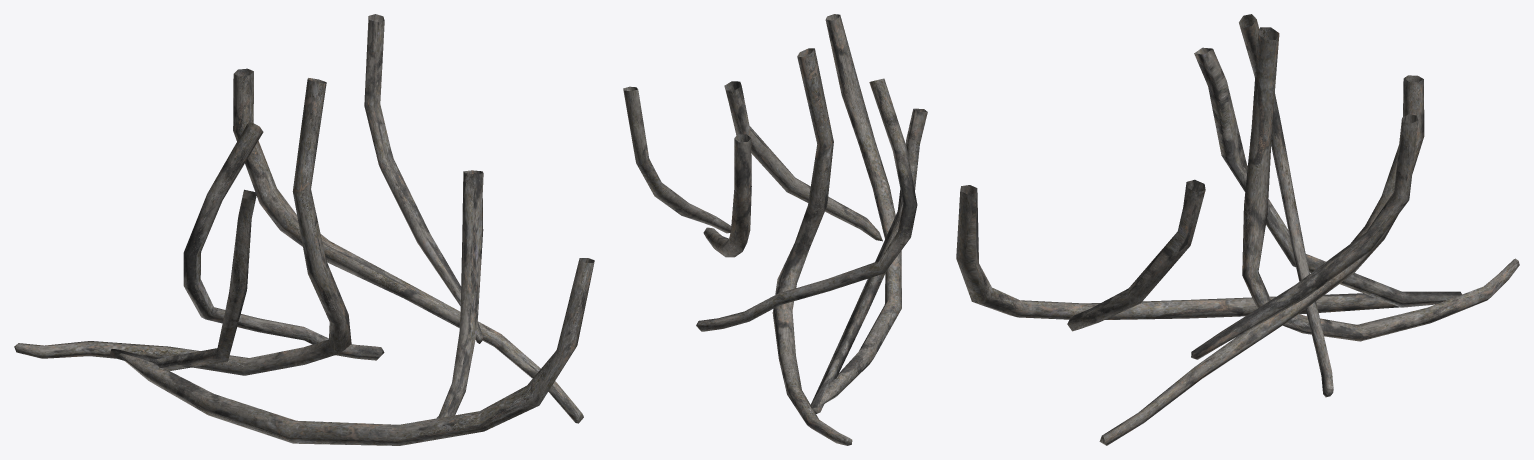
Rendered from tree02_02.fbx.
3 views of the same model, side by side, from view 1: azimuth 30°, elevation 25°; view 2: azimuth 150°, elevation 25°; view 3: azimuth 270°, elevation 25° (orthographic). The views are drawn at different scales.
Visible parts, largest first — view 1: tree02_02; view 2: tree02_02; view 3: tree02_02.
Boxes of the visible parts, x1,y1,x2,y2 form: tree02_02: (14,14,594,445); tree02_02: (623,14,927,445); tree02_02: (956,14,1519,445).
Bounding box in the file's own units: 417 × 361 × 564.
